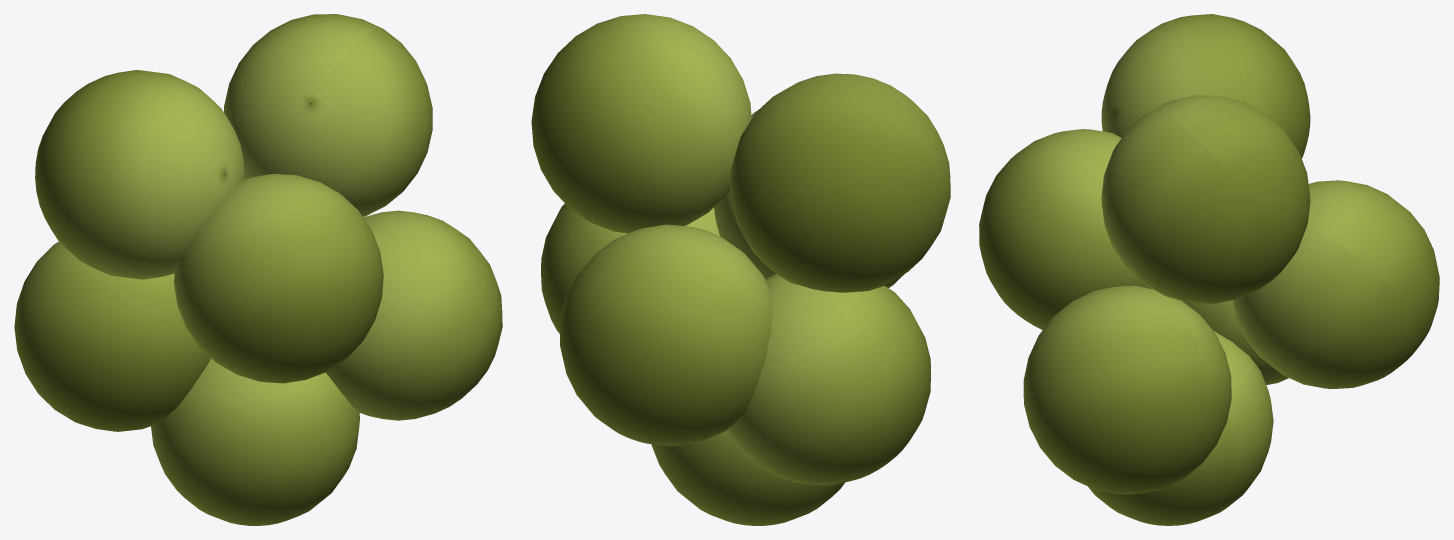
Rendered from shine.FBX.
3 views of the same model, side by side, from view 1: azimuth 30°, elevation 25°; view 2: azimuth 150°, elevation 25°; view 3: azimuth 270°, elevation 25° (orthographic). The views are drawn at different scales.
Parts seen in each view (by area): view 1: Sphere006, Sphere005, Sphere007, Sphere004, Sphere001, Sphere003; view 2: Sphere005, Sphere007, Sphere002, Sphere004, Sphere001, Sphere003, Sphere006; view 3: Sphere007, Sphere003, Sphere002, Sphere006, Sphere005, Sphere001, Sphere004.
Part boxes in pixels (bbox=[...]): Sphere006: bbox=[174, 173, 383, 383]; Sphere005: bbox=[35, 70, 244, 279]; Sphere007: bbox=[224, 14, 432, 216]; Sphere004: bbox=[14, 241, 210, 431]; Sphere001: bbox=[151, 358, 359, 525]; Sphere003: bbox=[325, 210, 502, 420]; Sphere005: bbox=[730, 73, 950, 292]; Sphere007: bbox=[531, 14, 751, 233]; Sphere002: bbox=[560, 224, 772, 445]; Sphere004: bbox=[727, 274, 930, 485]; Sphere001: bbox=[651, 430, 844, 525]; Sphere003: bbox=[541, 203, 719, 333]; Sphere006: bbox=[714, 109, 904, 287]; Sphere007: bbox=[1101, 95, 1310, 303]; Sphere003: bbox=[1023, 285, 1231, 494]; Sphere002: bbox=[1232, 180, 1439, 388]; Sphere006: bbox=[979, 129, 1151, 329]; Sphere005: bbox=[1101, 14, 1310, 158]; Sphere001: bbox=[1088, 331, 1273, 525]; Sphere004: bbox=[1182, 300, 1288, 384].
Bounding box in the file's own units: 62.5 × 67.87 × 62.21.
